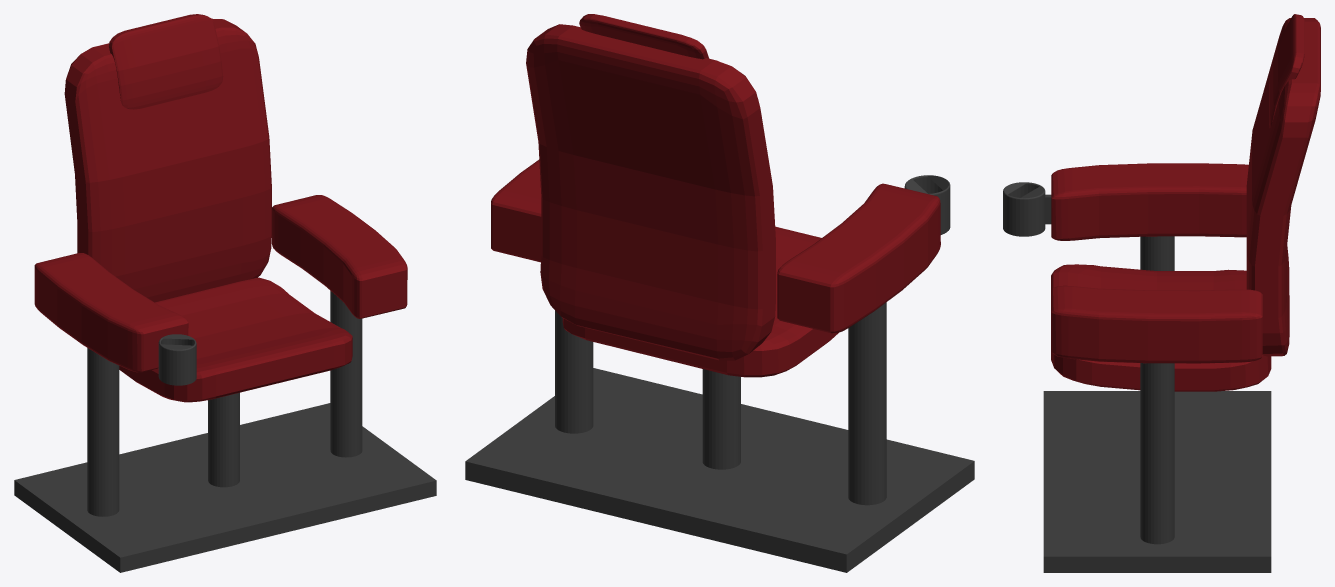
The model's file is TheaterArmchair.fbx.
3 renders of one model, left to right at view 1: azimuth 30°, elevation 25°; view 2: azimuth 150°, elevation 25°; view 3: azimuth 270°, elevation 25°, orthographic. The views are drawn at different scales.
Parts seen in each view (by area): view 1: Cube.001, Cube.005, Cube, Cube.006, Cube.004, Cube.002, Cylinder, Cylinder.001, Cylinder.002, Cylinder.004; view 2: Cube.001, Cube.005, Cube.004, Cylinder, Cube, Cube.006, Cylinder.001, Cylinder.002, Cube.002, Cylinder.004; view 3: Cube.005, Cube.006, Cube.004, Cube.001, Cube, Cylinder.001, Cylinder.004, Cube.002, Cylinder.
Boxes of the visible parts, bbox=[...] form: Cube.001: bbox=[64, 18, 271, 302]; Cube.005: bbox=[14, 403, 436, 572]; Cube: bbox=[119, 277, 352, 402]; Cube.006: bbox=[272, 195, 407, 318]; Cube.004: bbox=[34, 253, 188, 372]; Cube.002: bbox=[109, 14, 223, 109]; Cylinder: bbox=[87, 348, 119, 516]; Cylinder.001: bbox=[330, 291, 362, 457]; Cylinder.002: bbox=[208, 392, 239, 487]; Cylinder.004: bbox=[158, 334, 196, 384]; Cube.001: bbox=[526, 24, 775, 360]; Cube.005: bbox=[465, 368, 974, 572]; Cube.004: bbox=[777, 183, 940, 333]; Cylinder: bbox=[848, 302, 886, 505]; Cube: bbox=[562, 226, 838, 377]; Cube.006: bbox=[491, 159, 541, 262]; Cylinder.001: bbox=[555, 310, 593, 433]; Cylinder.002: bbox=[702, 369, 740, 469]; Cube.002: bbox=[579, 14, 708, 59]; Cylinder.004: bbox=[904, 175, 950, 233]; Cube.005: bbox=[1043, 391, 1271, 572]; Cube.006: bbox=[1051, 285, 1262, 363]; Cube.004: bbox=[1051, 163, 1248, 240]; Cube.001: bbox=[1246, 18, 1320, 356]; Cube: bbox=[1051, 264, 1271, 391]; Cylinder.001: bbox=[1140, 363, 1174, 544]; Cylinder.004: bbox=[1003, 182, 1045, 235]; Cube.002: bbox=[1269, 14, 1304, 127]; Cylinder: bbox=[1140, 236, 1174, 270].
Bounding box in the file's own units: 344 × 441 × 279.
